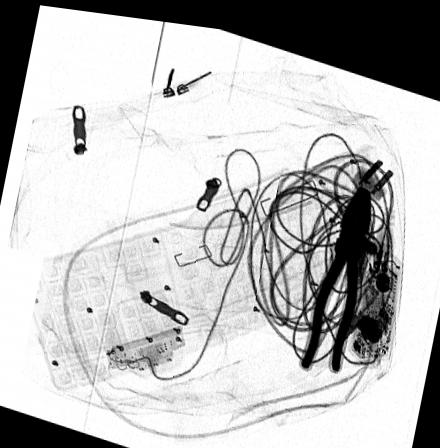Pliers: (298, 173, 370, 363)
